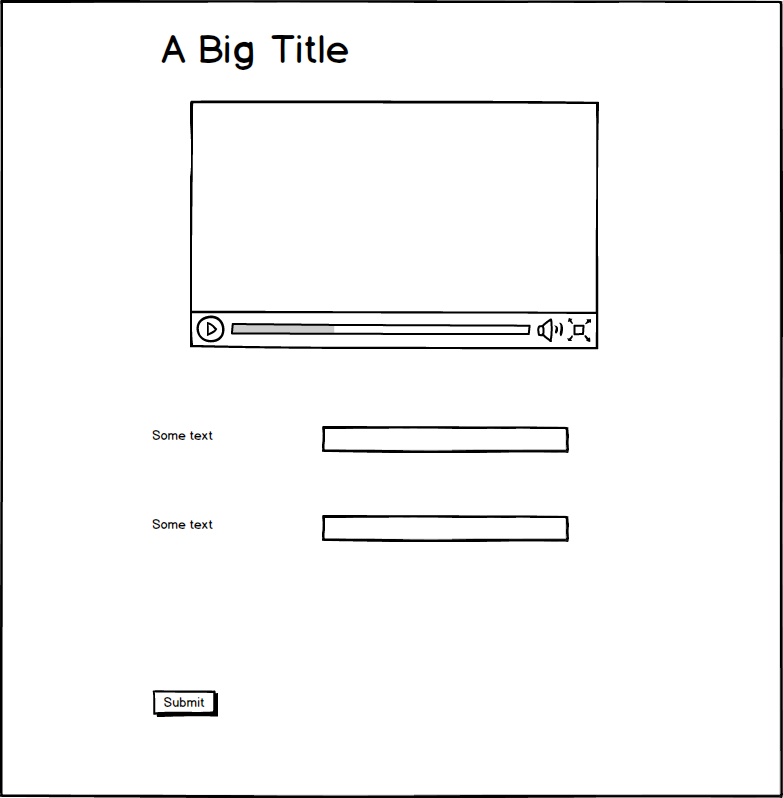button: (149, 684, 221, 722)
h1: (149, 24, 356, 75)
input: (317, 419, 577, 457), (317, 510, 576, 547)
label: (145, 423, 220, 445), (145, 515, 220, 534)
video: (176, 95, 607, 360)
